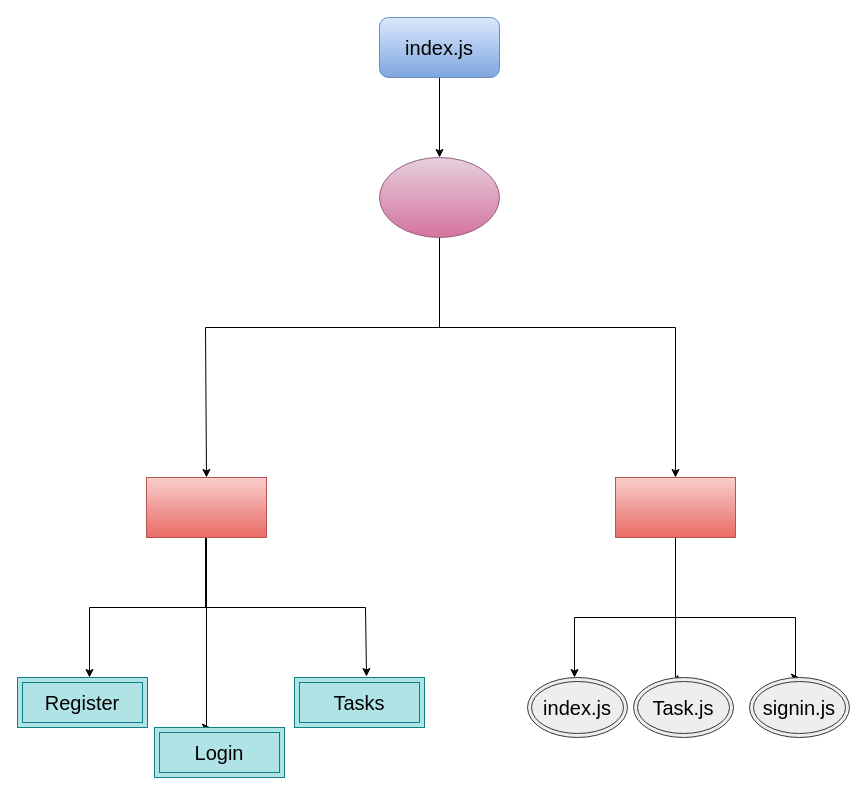
The diagram is 867 pixels wide and 795 high, and some of its shapes have lost their labels. The shapes that lost their labels are listed below. From the top down, each one's box as (x1, y1, x2, y2) in pixels, then its label:
(378, 156, 500, 238): App.js
(146, 476, 266, 538): Components
(614, 476, 736, 538): Reducers
